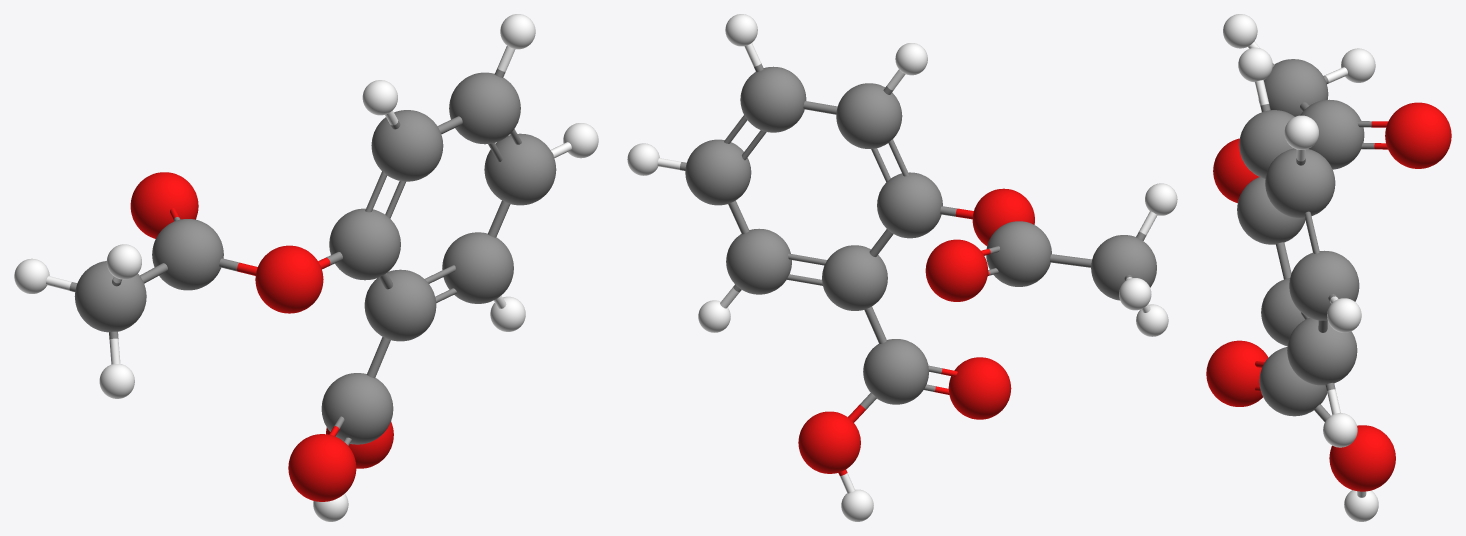
File: aspirin.glb
3 views of the same model, side by side, from view 1: azimuth 30°, elevation 25°; view 2: azimuth 150°, elevation 25°; view 3: azimuth 270°, elevation 25° (orthographic). The views are drawn at different scales.
Visible parts, largest first — view 1: atom4_merged, atom0_merged, atom13_merged; view 2: atom4_merged, atom0_merged, atom13_merged; view 3: atom4_merged, atom0_merged, atom13_merged.
Boxes of the visible parts, x1,y1,x2,y2 form: atom4_merged: [69, 68, 556, 445]; atom0_merged: [130, 172, 393, 501]; atom13_merged: [14, 14, 598, 521]; atom4_merged: [680, 63, 1156, 409]; atom0_merged: [798, 188, 1034, 475]; atom13_merged: [627, 14, 1177, 521]; atom4_merged: [1237, 59, 1374, 421]; atom0_merged: [1206, 102, 1451, 491]; atom13_merged: [1223, 14, 1378, 521].
Size of the model in its own units: 8.5 by 6.93 by 3.23.
